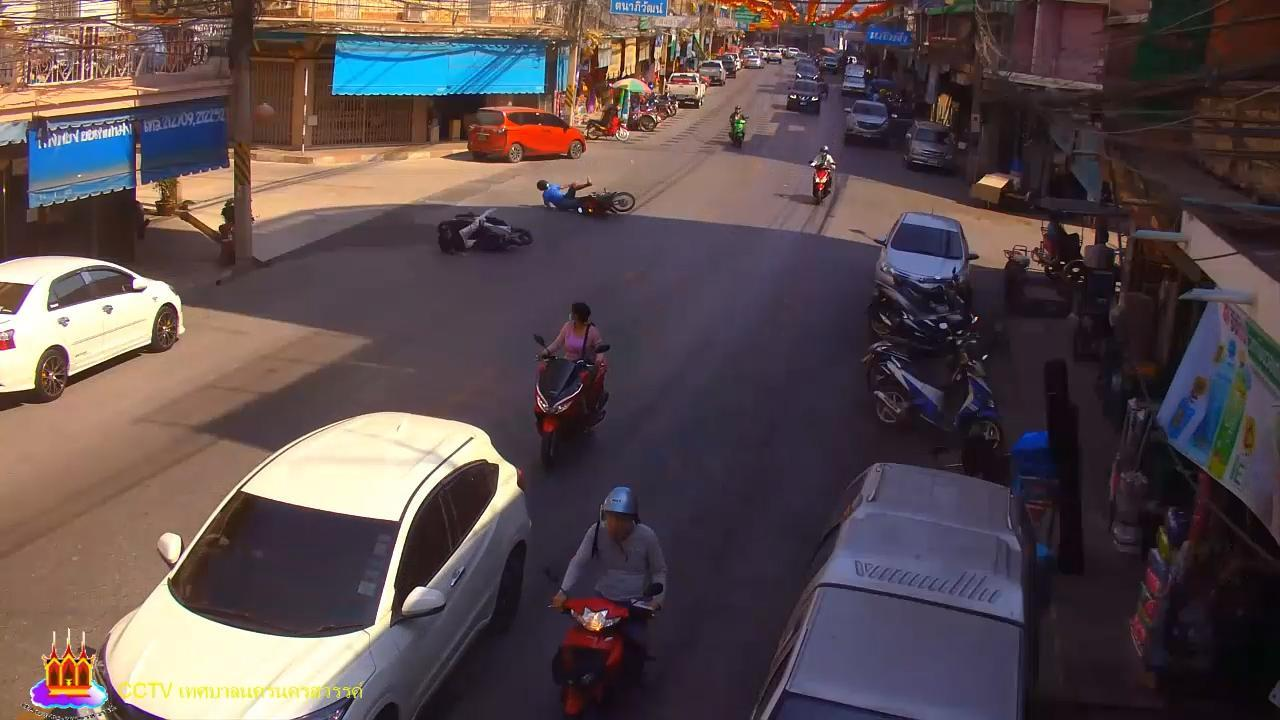accident: (535, 176, 598, 212)
